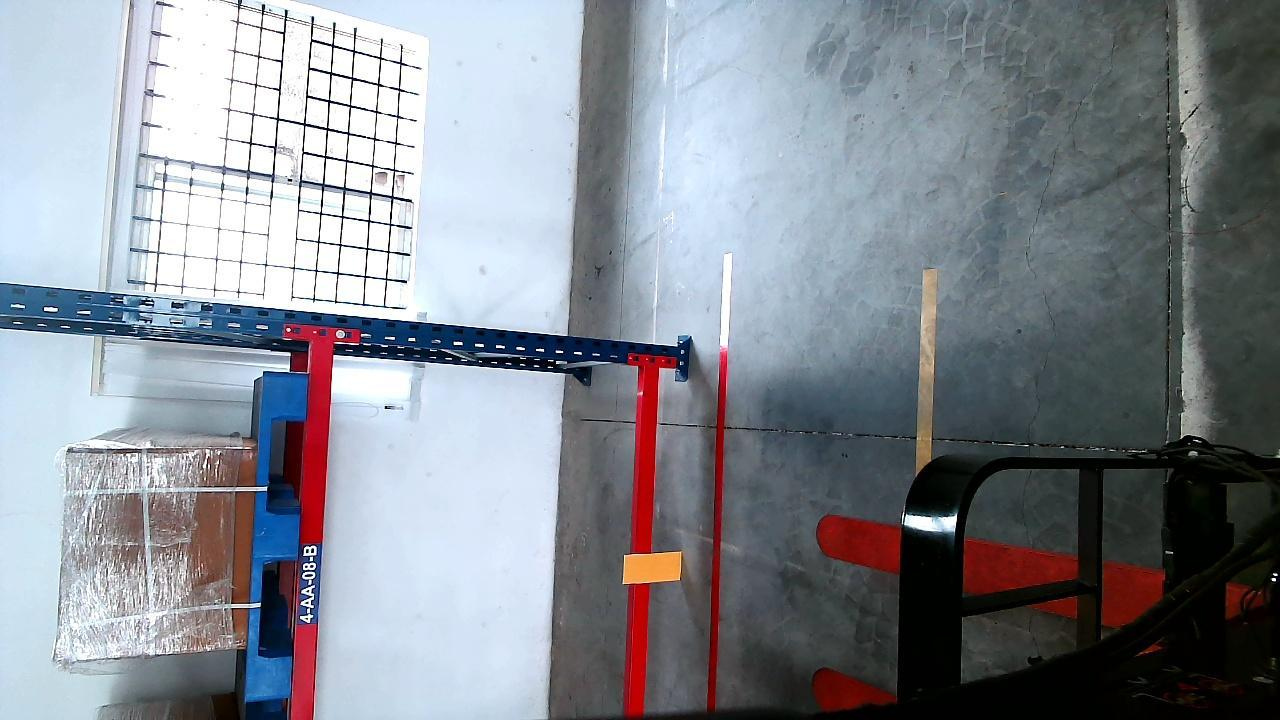red_line: (706, 252, 733, 712)
yellow_line: (915, 266, 936, 470)
